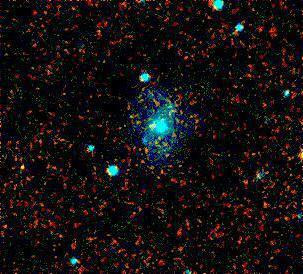star: (286, 144, 303, 174)
